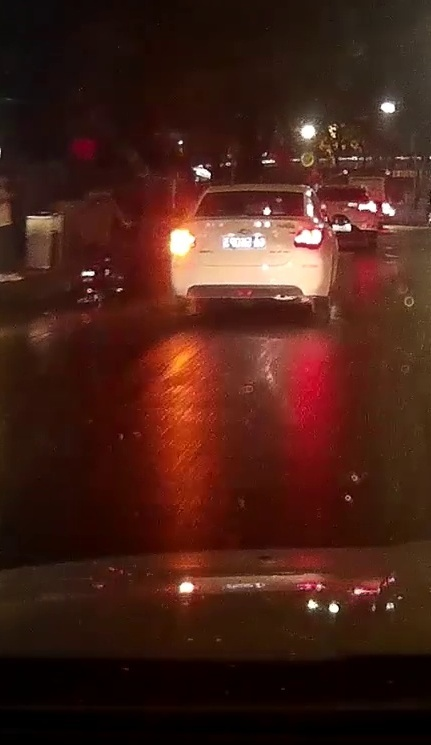L_light: (172, 230, 196, 248)
R_light: (293, 228, 323, 249)
T_light: (245, 191, 269, 195)
night-left: (170, 182, 326, 316)
